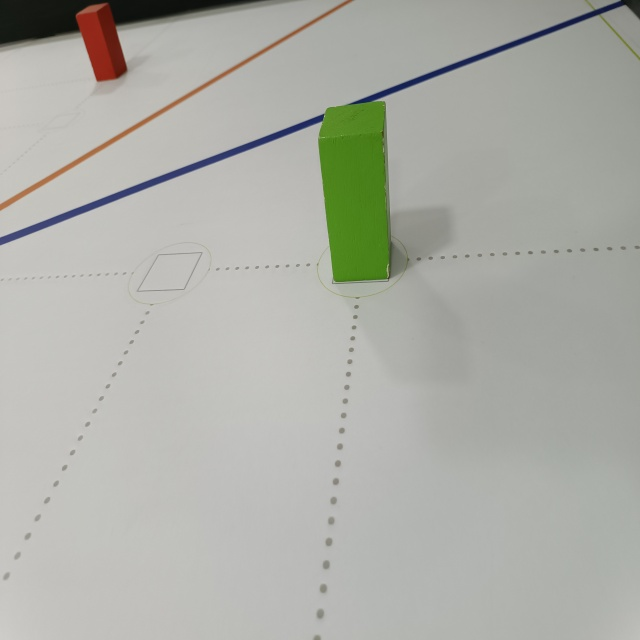blue line: (0, 0, 633, 245)
green rectangular prism: (317, 100, 398, 288)
orange line: (0, 0, 349, 210)
red rectangular prism: (73, 0, 132, 82)
